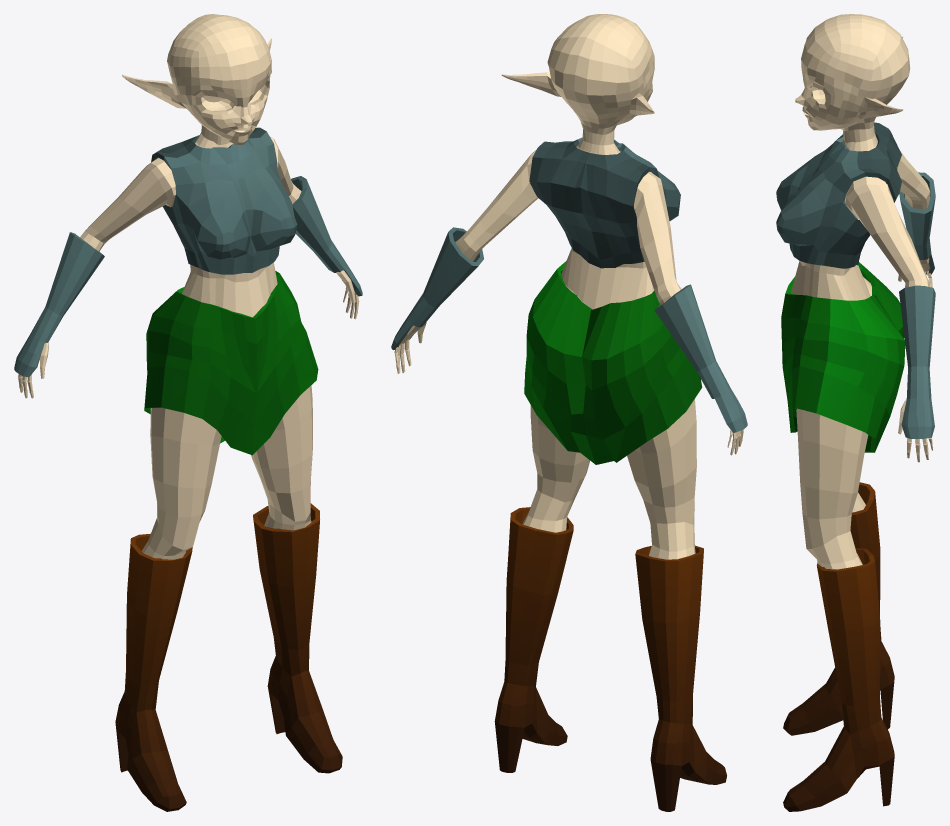
The model's file is LumenModelTest.fbx.
3 renders of one model, left to right at view 1: azimuth 30°, elevation 25°; view 2: azimuth 150°, elevation 25°; view 3: azimuth 270°, elevation 25°, orthographic. The views are drawn at different scales.
Visible parts, largest first — view 1: Plane.006, Plane.007, Plane.008, Plane.009, Plane.010; view 2: Plane.006, Plane.007, Plane.008, Plane.009, Plane.010; view 3: Plane.006, Plane.007, Plane.008, Plane.009, Plane.010.
Part boxes in pixels (x1=…): Plane.006: x1=18, y1=14, x2=359, y2=559; Plane.007: x1=115, y1=503, x2=342, y2=811; Plane.008: x1=144, y1=271, x2=318, y2=455; Plane.009: x1=151, y1=127, x2=297, y2=274; Plane.010: x1=14, y1=176, x2=362, y2=377; Plane.006: x1=394, y1=14, x2=744, y2=559; Plane.007: x1=494, y1=507, x2=726, y2=811; Plane.008: x1=524, y1=261, x2=702, y2=464; Plane.009: x1=529, y1=137, x2=680, y2=268; Plane.010: x1=391, y1=227, x2=747, y2=433; Plane.006: x1=790, y1=14, x2=932, y2=569; Plane.007: x1=783, y1=482, x2=894, y2=811; Plane.008: x1=781, y1=262, x2=905, y2=452; Plane.009: x1=776, y1=122, x2=901, y2=268; Plane.010: x1=899, y1=172, x2=935, y2=438.
Bounding box in the file's own units: 0.8126 × 1.69 × 0.3263.
Materials: 1 (1 with a texture image).
